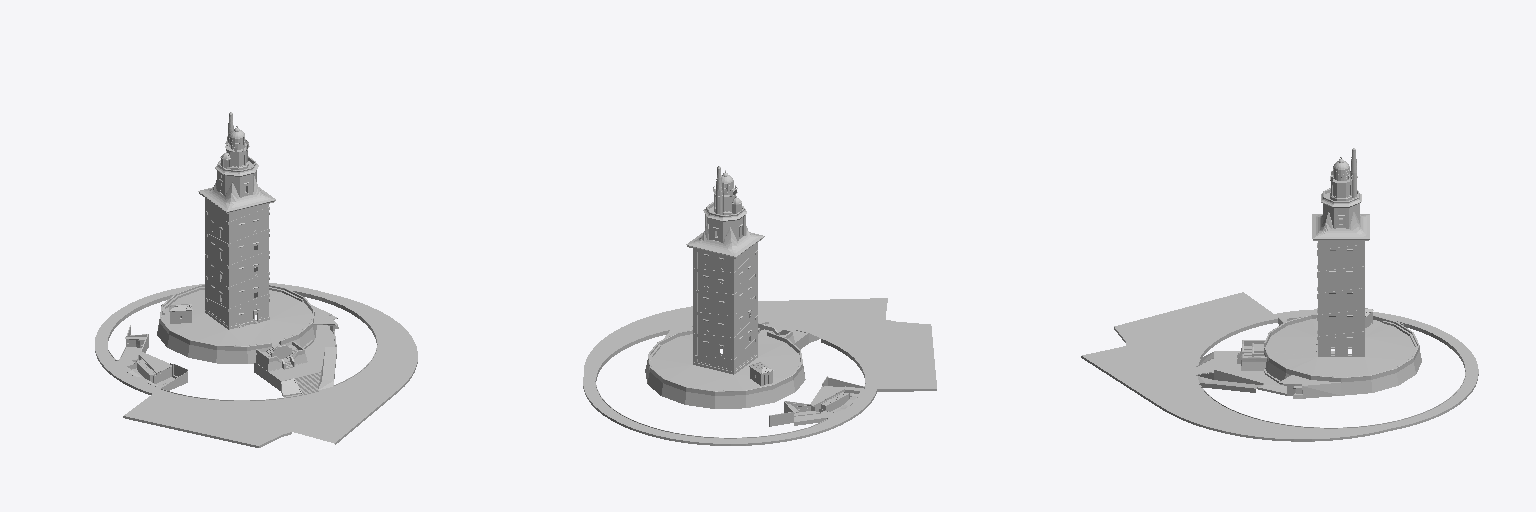
File: torrebase.obj
The picture shows the model from 3 angles: view 1: azimuth 30°, elevation 25°; view 2: azimuth 150°, elevation 25°; view 3: azimuth 270°, elevation 25°; orthographic projection.
Visible parts, largest first — view 1: polySurface22 BaseModelo, pasted__FachadaEste pasted__FachadaExt group, BaseTorre Chan, BaseTorre polySurface129, FachadaExt FachadaSur, FachadaExt Octogono, EscaleirasBase polySurface117, Servicios polySurface115, AceirasFora AceiraExt, EscaleirasAcceso polySurface71; view 2: polySurface22 BaseModelo, FachadaExt FachadaOeste, BaseTorre Chan, BaseTorre polySurface129, FachadaExt FachadaSur, FachadaExt Octogono, Servicios polySurface115, AceirasFora AceiraExt; view 3: polySurface22 BaseModelo, BaseTorre Chan, FachadaEste FachadaExt, BaseTorre polySurface129, FachadaExt Octogono, EscaleirasBase polySurface117, AceirasFora AceiraExt, EscaleirasAcceso polySurface71.
Boxes of the visible parts, x1=… form: polySurface22 BaseModelo: x1=95, y1=283, x2=417, y2=447; pasted__FachadaEste pasted__FachadaExt group: x1=228, y1=204, x2=269, y2=329; BaseTorre Chan: x1=162, y1=290, x2=311, y2=348; BaseTorre polySurface129: x1=157, y1=284, x2=338, y2=363; FachadaExt FachadaSur: x1=205, y1=198, x2=228, y2=329; FachadaExt Octogono: x1=198, y1=156, x2=275, y2=211; EscaleirasBase polySurface117: x1=268, y1=325, x2=336, y2=397; Servicios polySurface115: x1=126, y1=325, x2=187, y2=390; AceirasFora AceiraExt: x1=107, y1=290, x2=377, y2=400; EscaleirasAcceso polySurface71: x1=254, y1=341, x2=307, y2=381; polySurface22 BaseModelo: x1=583, y1=298, x2=936, y2=445; FachadaExt FachadaOeste: x1=693, y1=249, x2=733, y2=374; BaseTorre Chan: x1=652, y1=329, x2=800, y2=390; BaseTorre polySurface129: x1=645, y1=324, x2=805, y2=408; FachadaExt FachadaSur: x1=734, y1=243, x2=757, y2=373; FachadaExt Octogono: x1=686, y1=202, x2=763, y2=256; Servicios polySurface115: x1=769, y1=376, x2=864, y2=426; AceirasFora AceiraExt: x1=595, y1=326, x2=865, y2=438; polySurface22 BaseModelo: x1=1081, y1=292, x2=1478, y2=441; BaseTorre Chan: x1=1254, y1=318, x2=1414, y2=376; FachadaEste FachadaExt: x1=1317, y1=241, x2=1364, y2=356; BaseTorre polySurface129: x1=1264, y1=314, x2=1421, y2=398; FachadaExt Octogono: x1=1312, y1=188, x2=1369, y2=238; EscaleirasBase polySurface117: x1=1196, y1=351, x2=1286, y2=392; AceirasFora AceiraExt: x1=1199, y1=319, x2=1465, y2=428; EscaleirasAcceso polySurface71: x1=1237, y1=340, x2=1266, y2=370.
Bounding box in the file's own units: 7.72 × 5.58 × 8.8.